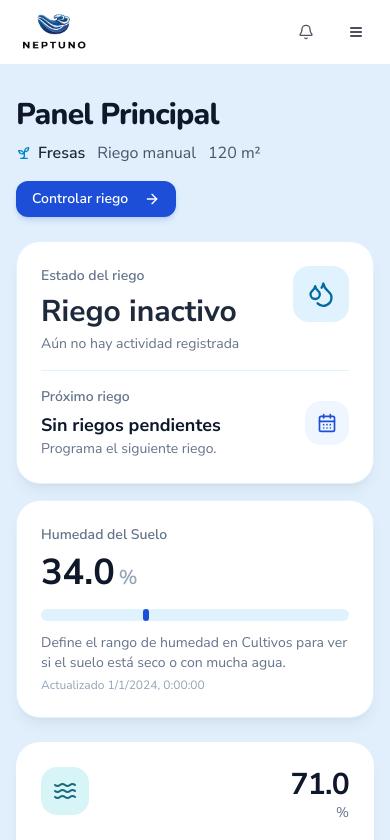
Dashboard and route module › opens the mobile navigation with access to all dashboard sections
Expected: the heading "Panel Principal" is shown, [16,94,219,135]
Click the button named "Abrir menú" at (356, 32), box [338,14,374,50]
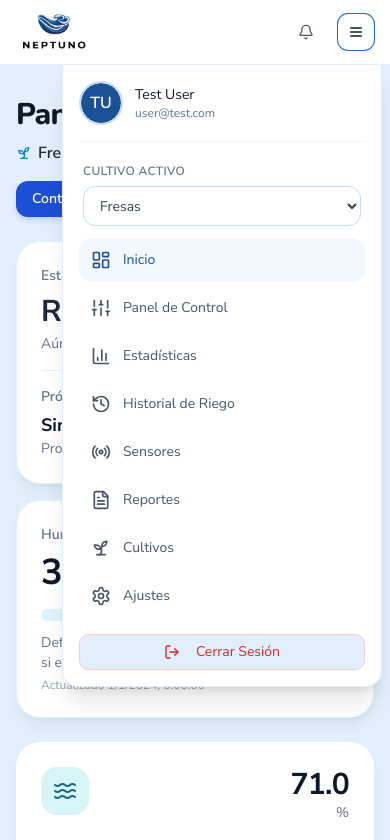
Result: the link "Inicio" is shown at [79,238,365,282]
Result: the link "Panel de Control" is shown at [91,298,228,318]
Result: the link "Estadísticas" is shown at [91,346,197,366]
